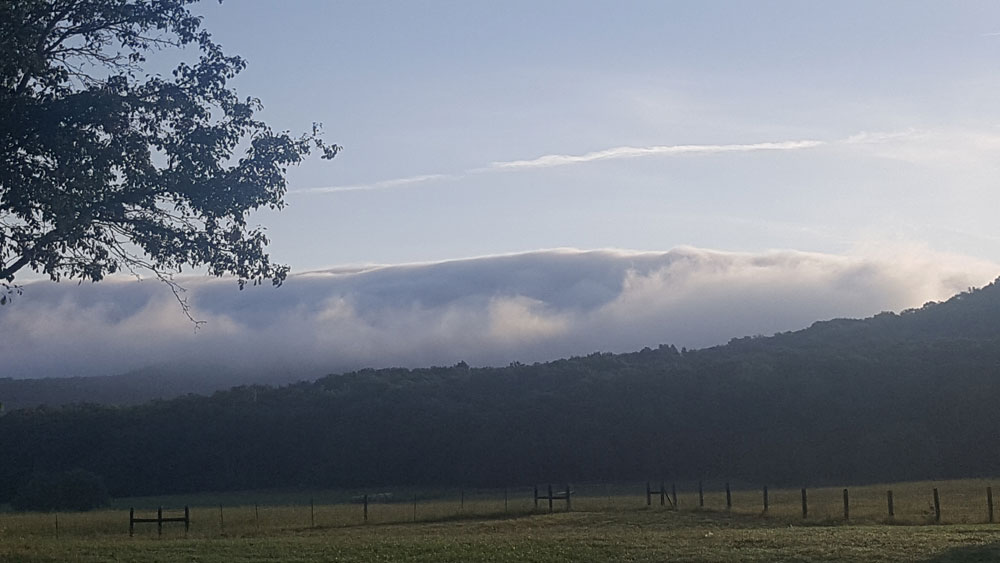Stratus: (8, 254, 983, 359)
